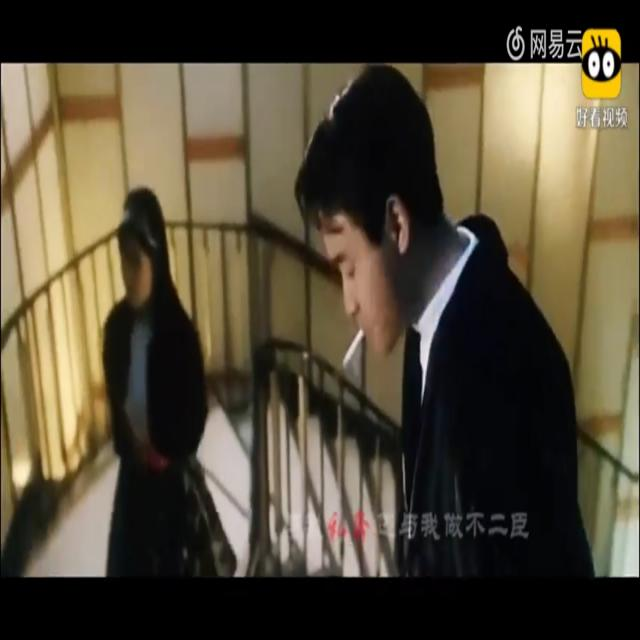smoke: (338, 334, 359, 377)
